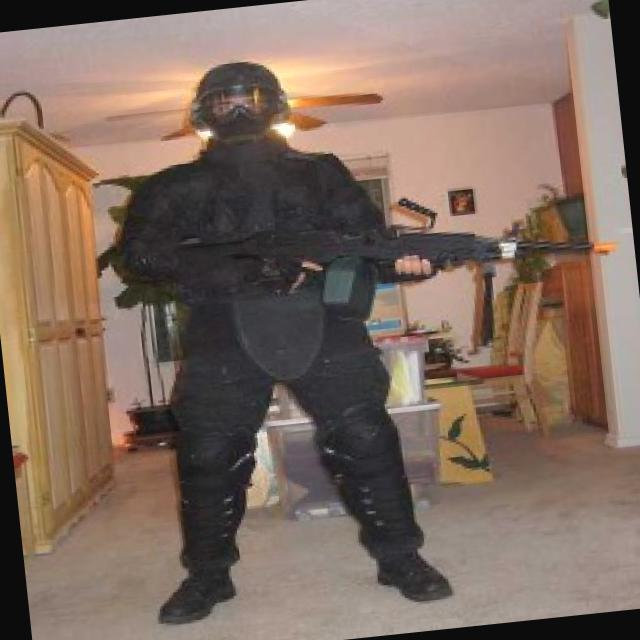long weapon: (158, 195, 617, 332)
